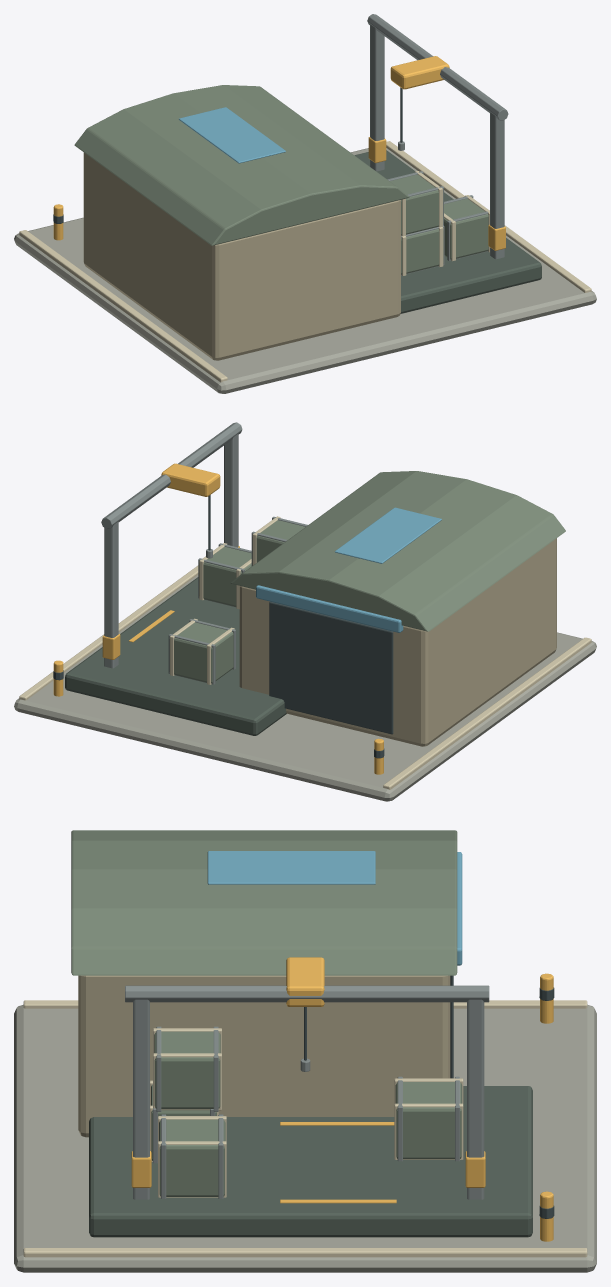
File: dropoff.glb
3 renders of one model, top to bottom at view 1: azimuth 30°, elevation 25°; view 2: azimuth 150°, elevation 25°; view 3: azimuth 270°, elevation 25°, orthographic. The views are drawn at different scales.
Visible parts, largest first — view 1: body; view 2: body; view 3: body.
Boxes of the visible parts, x1,y1,x2,y2 form: body: (14,14,596,393); body: (14,422,596,801); body: (14,830,596,1272).
Size of the model in its own units: 8.9 by 4.07 by 8.5.
